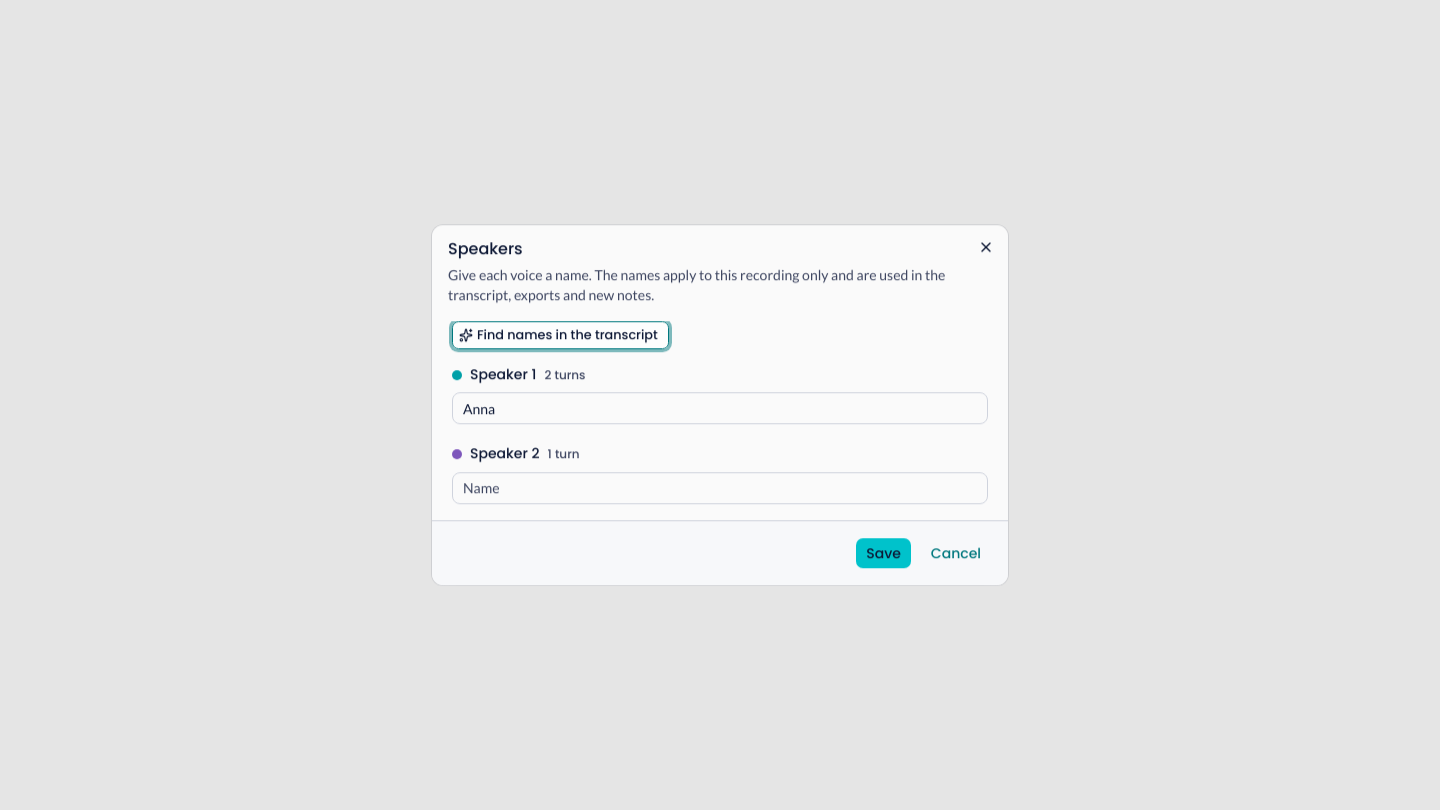
Test: finds a name in the transcript and uses it on request
The width and height of the screenshot is (1440, 810).
Click the button "Find names in the transcript".
click(560, 335)  # box [452, 321, 669, 349]
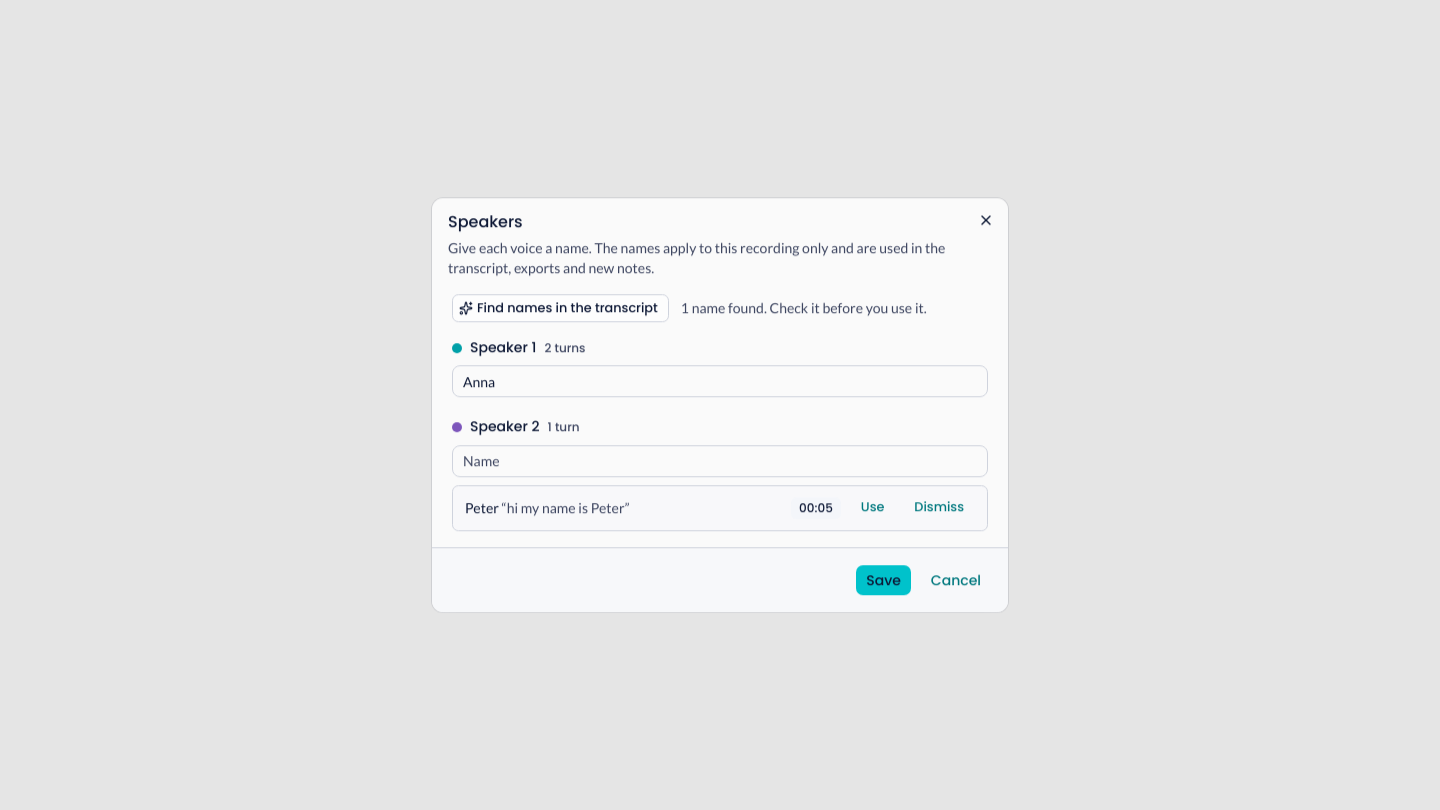
Expected: the text "“hi my name is Peter”" is shown, [502, 499, 630, 516]
Expected: the text "1 name found. Check it before you use it." is shown, [681, 298, 927, 318]
Click the button named "Listen at".
click(816, 508)  # box [790, 496, 842, 520]
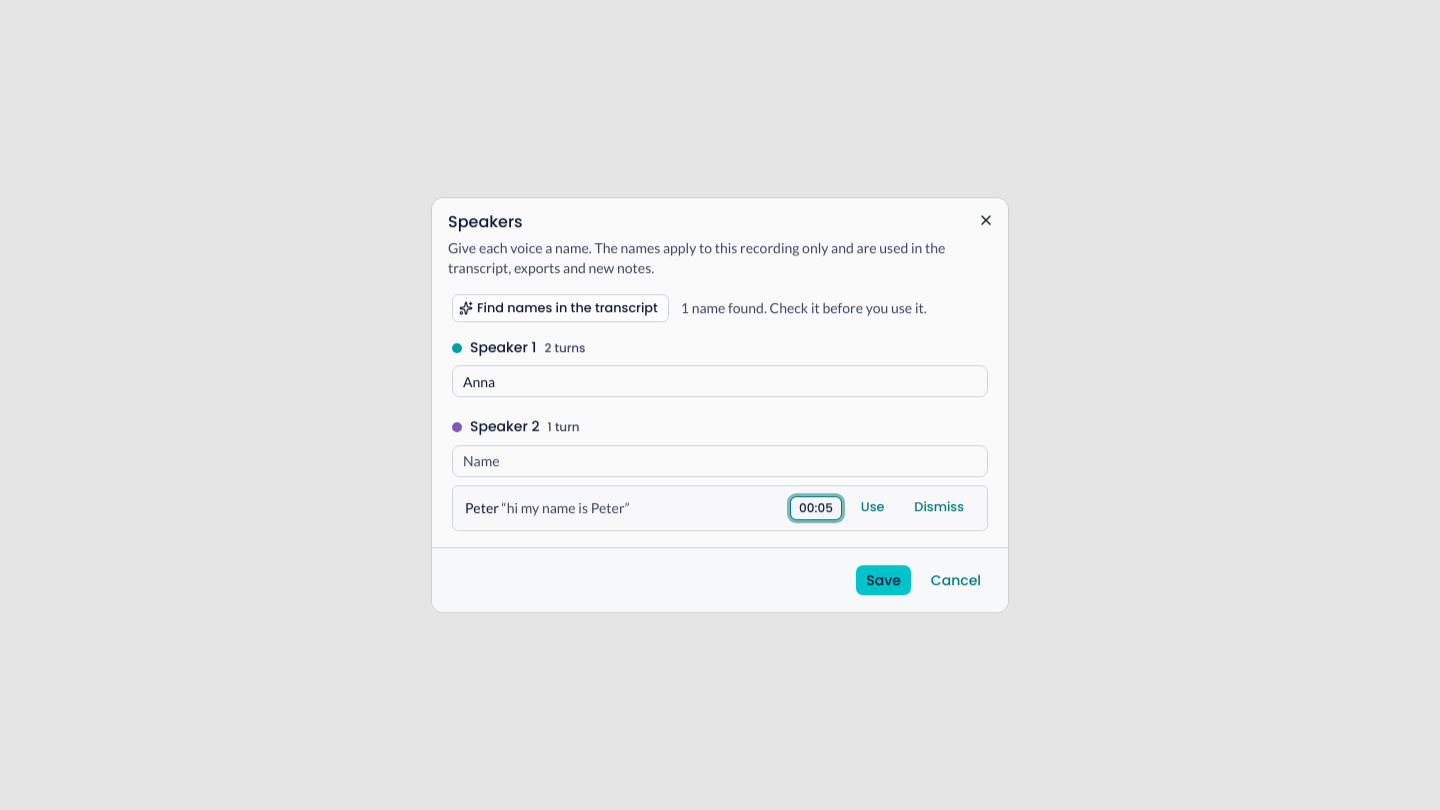
Click the button with aria-label "Use Peter for Speaker 2".
click(873, 508)  # box [850, 494, 895, 522]
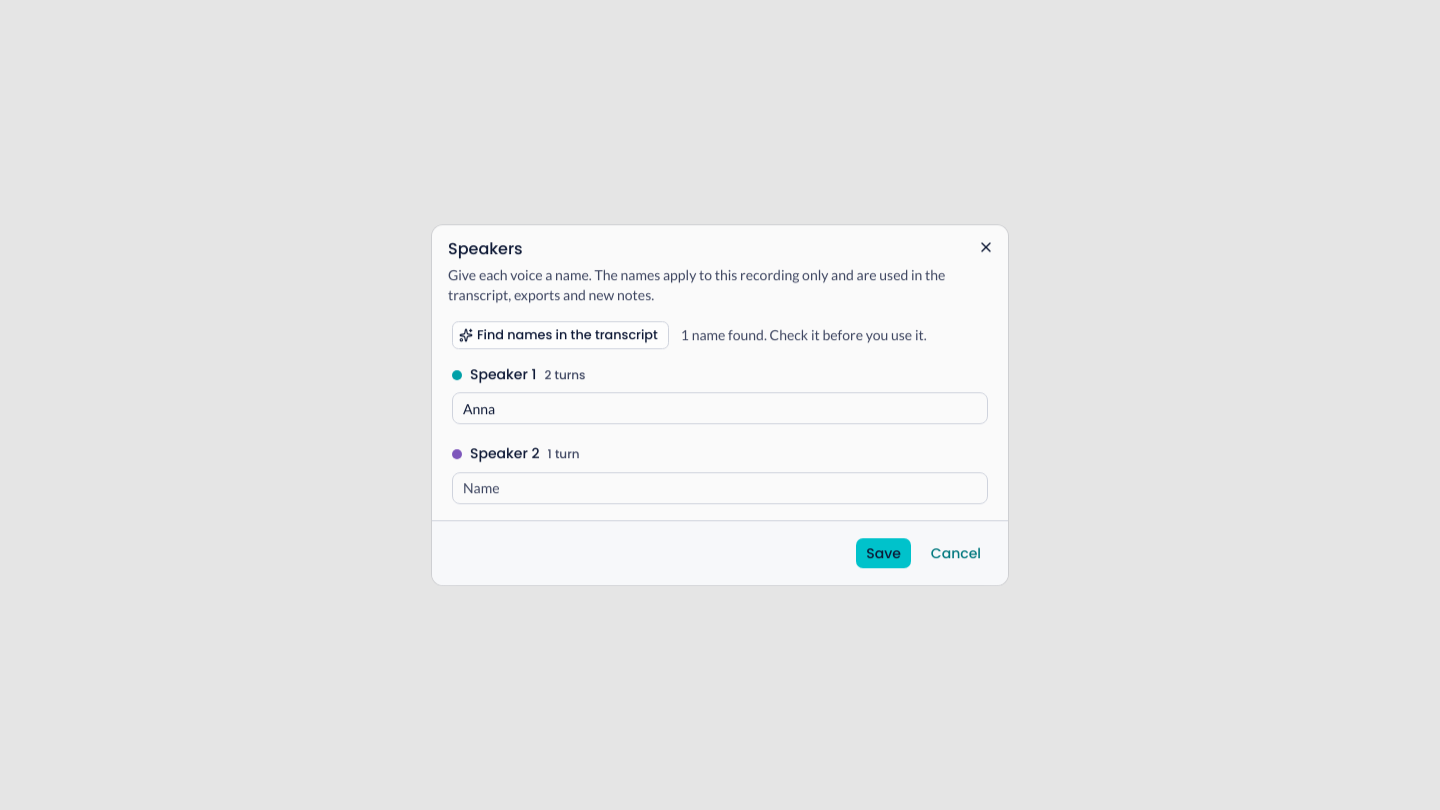
Expected: the text "“hi my name is Peter”" is gone
